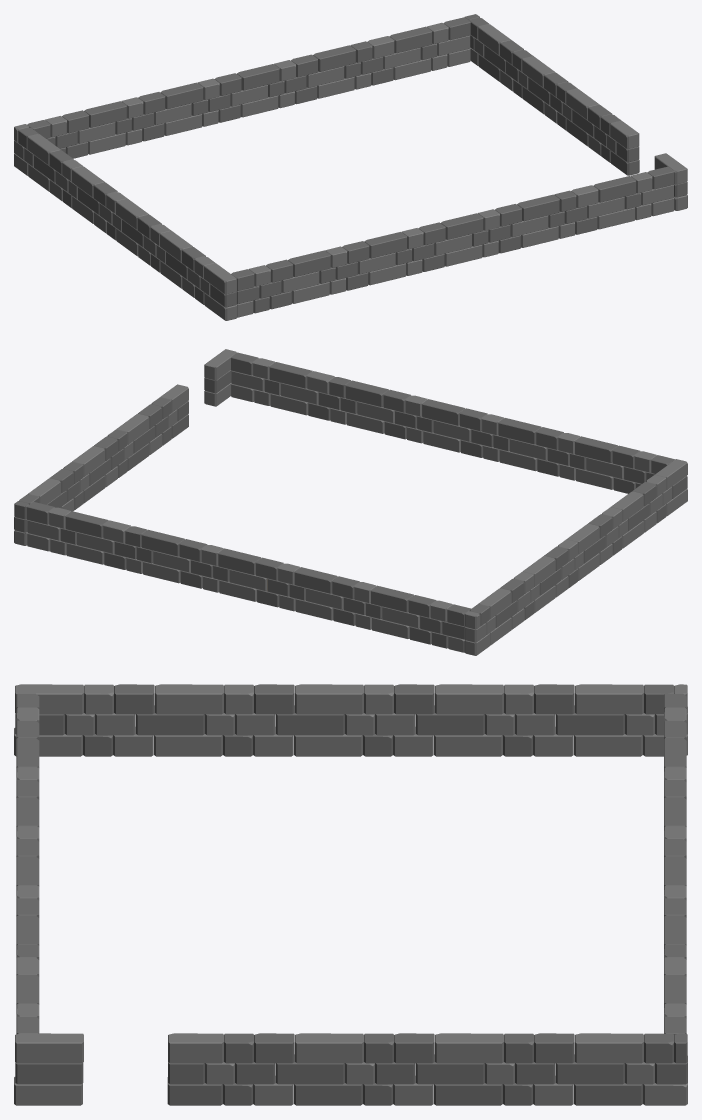
Rendered from baseGround1.fbx.
3 views of the same model, one above another, from view 1: azimuth 30°, elevation 25°; view 2: azimuth 150°, elevation 25°; view 3: azimuth 270°, elevation 25° (orthographic). The views are drawn at different scales.
Parts seen in each view (by area): view 1: pasted__polySurface226; view 2: pasted__polySurface226; view 3: pasted__polySurface226.
Part boxes in pixels (<box>): pasted__polySurface226: <box>14,14,687,320</box>; pasted__polySurface226: <box>14,349,687,655</box>; pasted__polySurface226: <box>14,684,687,1105</box>.
Bounding box in the file's own units: 5203 × 426 × 4130.
